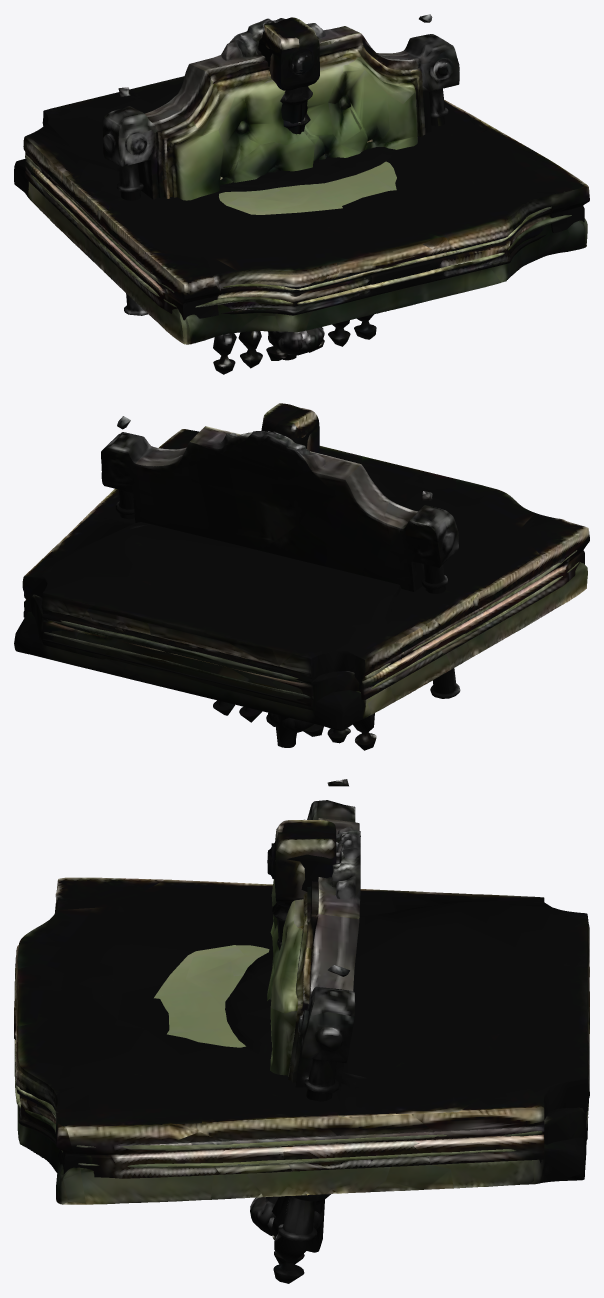
3 renders of one model, top to bottom at view 1: azimuth 30°, elevation 25°; view 2: azimuth 150°, elevation 25°; view 3: azimuth 270°, elevation 25°, orthographic. The views are drawn at different scales.
Parts seen in each view (by area): view 1: root.0.0, root.0.2, root.1, root.2, root.0.1, root.3, root.4, root.0.6; view 2: root.0.0, root.0.2, root.1, root.0.1, root.2, root.3; view 3: root.0.0, root.1, root.0.2, root.0.1, root.3, root.2, root.0.7.
Boxes of the visible parts, x1,y1,x2,y2 form: root.0.0: (23,76,589,320); root.0.2: (102,14,459,374); root.1: (14,158,587,344); root.2: (262,22,319,359); root.0.1: (25,155,551,292); root.3: (258,17,319,360); root.4: (280,86,312,134); root.0.6: (274,328,324,355); root.0.0: (22,429,589,706); root.0.2: (101,416,460,750); root.1: (14,562,587,730); root.0.1: (30,550,577,710); root.2: (265,408,319,747); root.3: (261,403,317,747); root.0.0: (14,877,589,1178); root.1: (14,945,588,1204); root.0.2: (267,779,360,1283); root.0.1: (14,967,587,1163); root.3: (267,831,336,1248); root.2: (267,820,336,1252); root.0.7: (250,844,342,1235).
Size of the model in its own units: 16003 by 12441 by 15498.
1 material, 1 textured.
